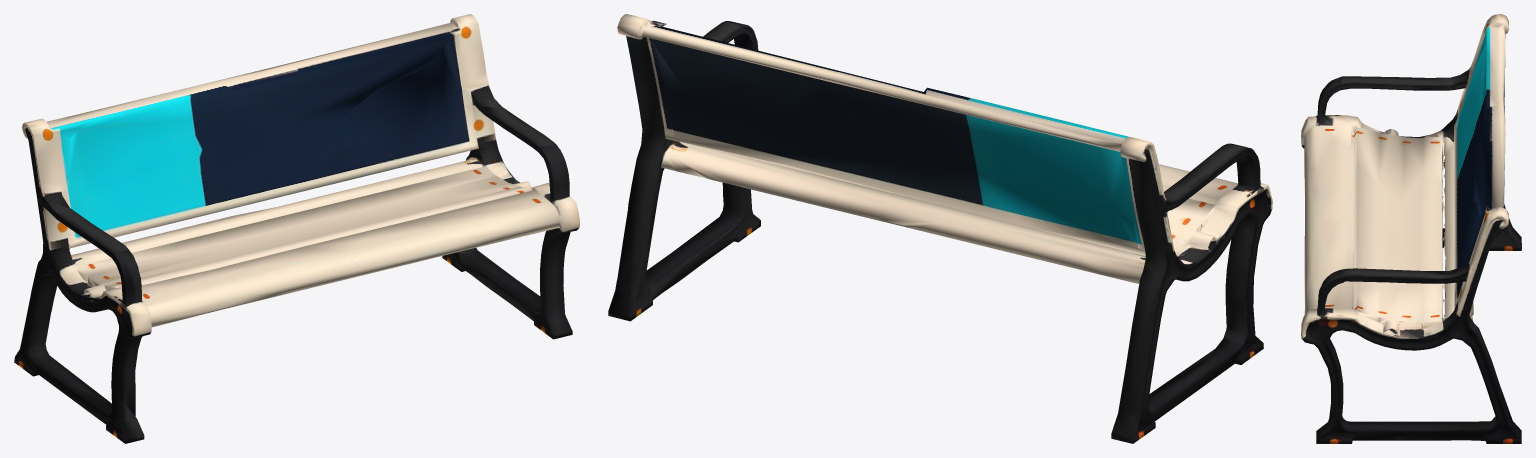
File: public_plaza_bench.glb
The picture shows the model from 3 angles, left to right: view 1: azimuth 30°, elevation 25°; view 2: azimuth 150°, elevation 25°; view 3: azimuth 270°, elevation 25°; orthographic projection. The views are drawn at different scales.
Bounding box in the file's own units: 1.9 × 1.01 × 0.8783.
Materials: 1 (1 with a texture image).
